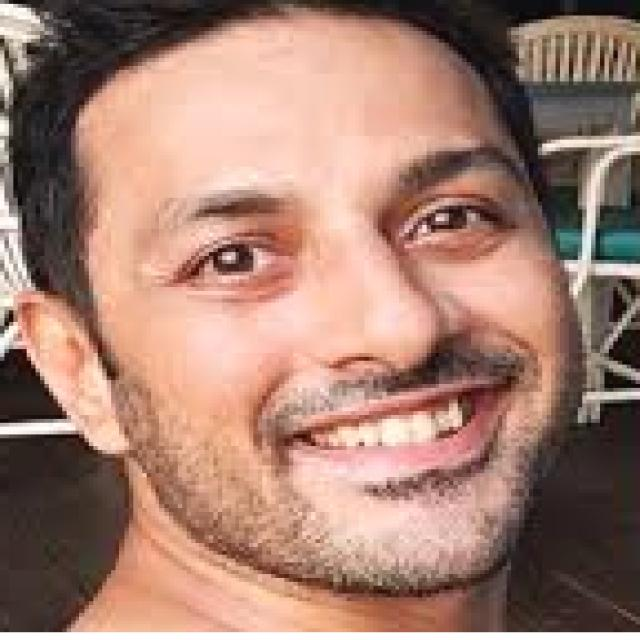normal_face: (136, 36, 492, 568)
